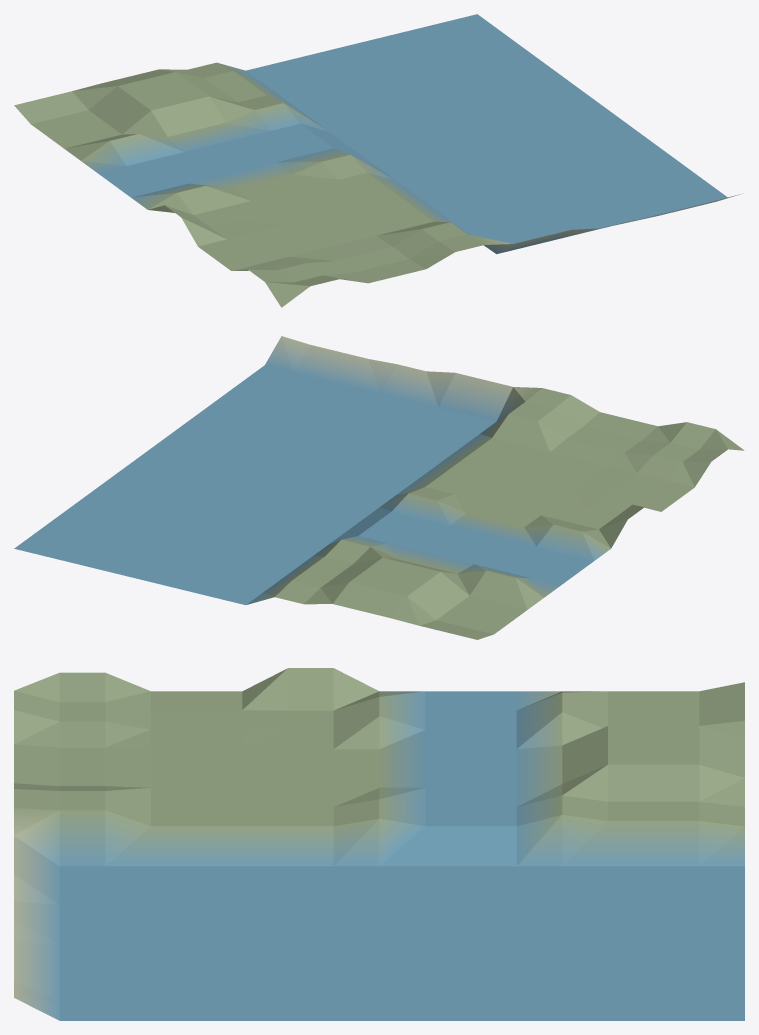
The picture shows the model from 3 angles, top to bottom: view 1: azimuth 30°, elevation 25°; view 2: azimuth 150°, elevation 25°; view 3: azimuth 270°, elevation 25°; orthographic projection. The views are drawn at different scales.
Bounding box in the file's own units: 32 × 2.12 × 32.
